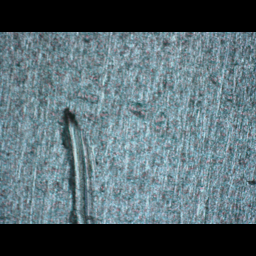d: (59, 106, 100, 223)
